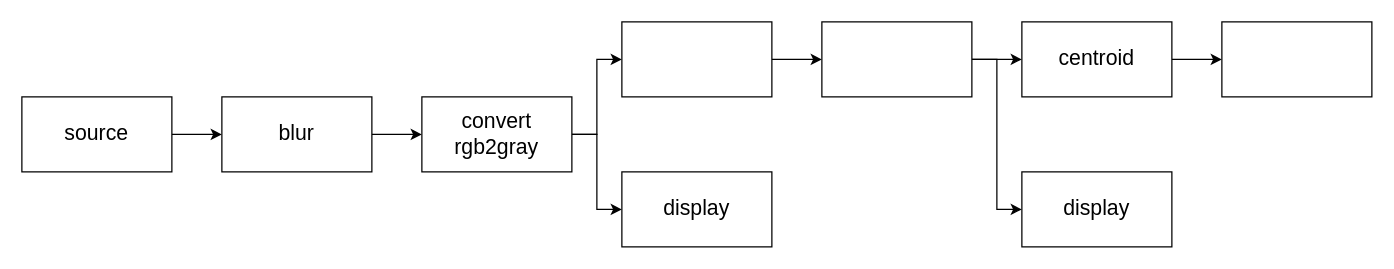
This 1394x269 diagram has some shape labels left out. The centre of each missing label's shape, as x and y in pixels:
"binarize" goes at (696,59).
"label" goes at (896,59).
"store" goes at (1296,59).
